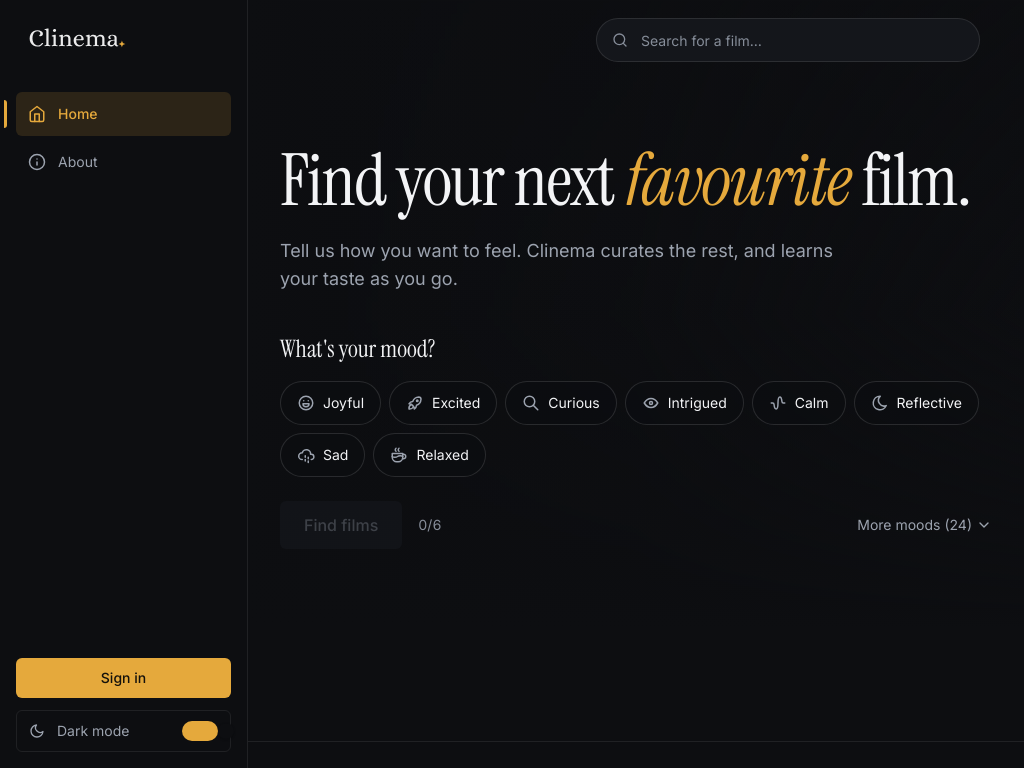
Test: App shell › searches films (debounced, keyboard) and opens the result in the drawer
Type "s" into the dropdown labelled "Search for a film".
click(788, 40); type("s")  # box [596,18,980,62]
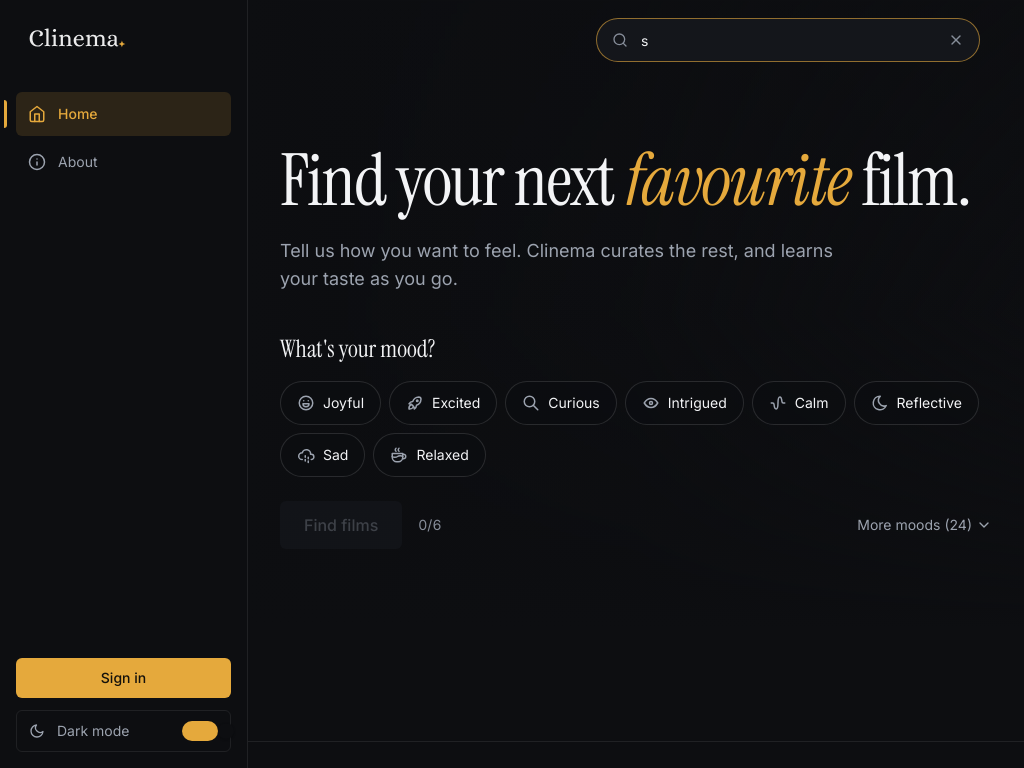
Type "talker" into the dropdown named "Search for a film".
click(788, 40); type("talker")  # box [596,18,980,62]
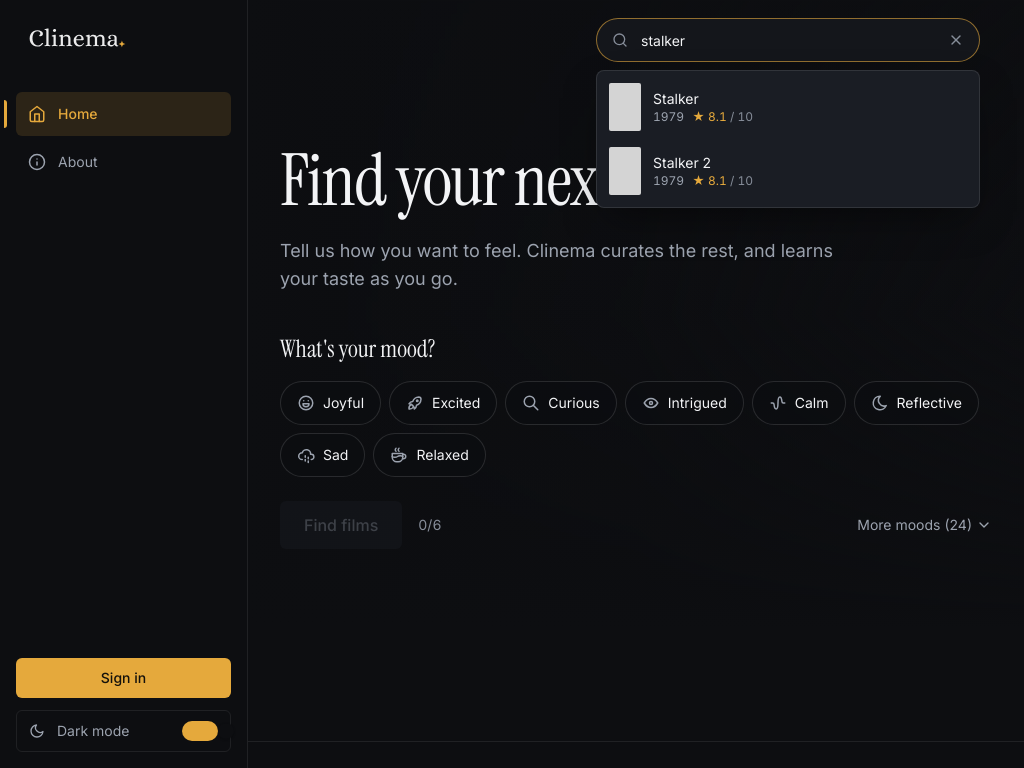
Press Arrowdown Enter
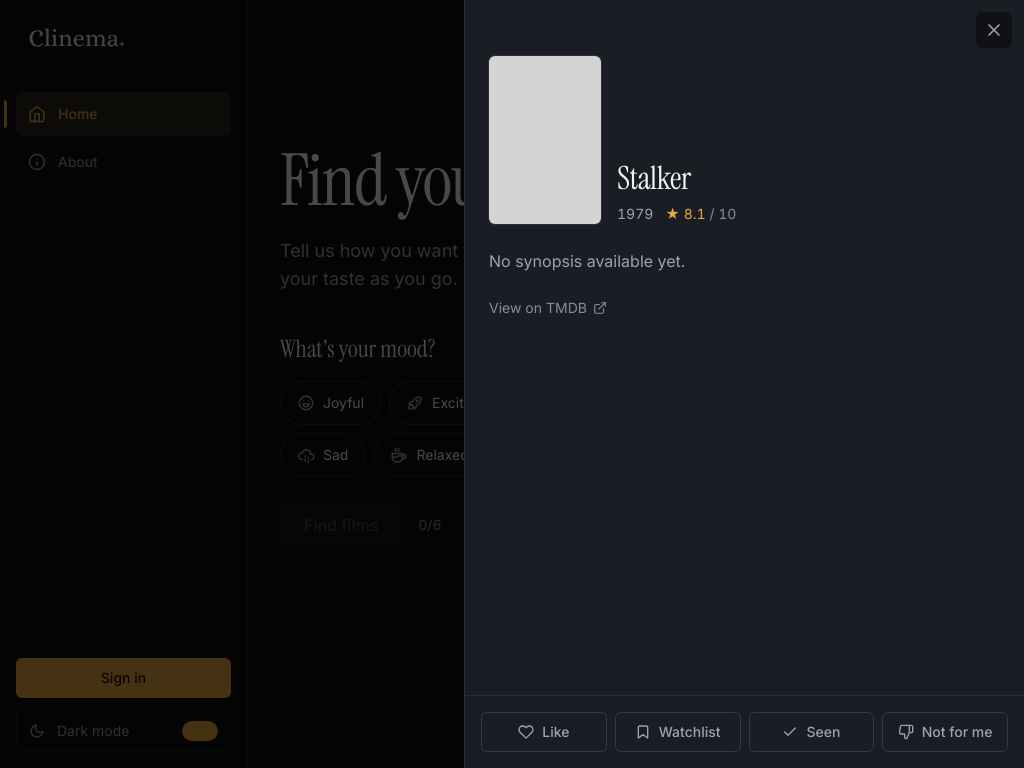
Result: the dialog "Stalker" is shown at [464,0,1023,767]
Result: the list "Stalker 1979 ★8.1/ 10 Stalker 2 1979 ★8.1/ 10" is gone
